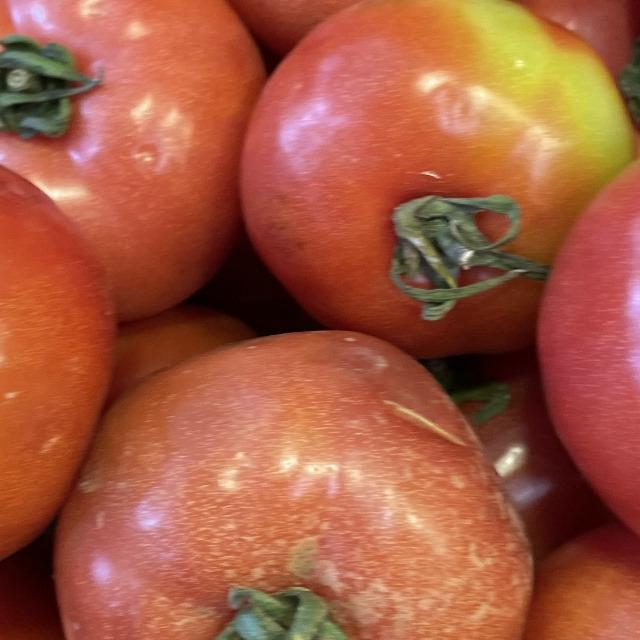tomato: (55, 295, 550, 640), (0, 130, 155, 590), (537, 92, 640, 617)
